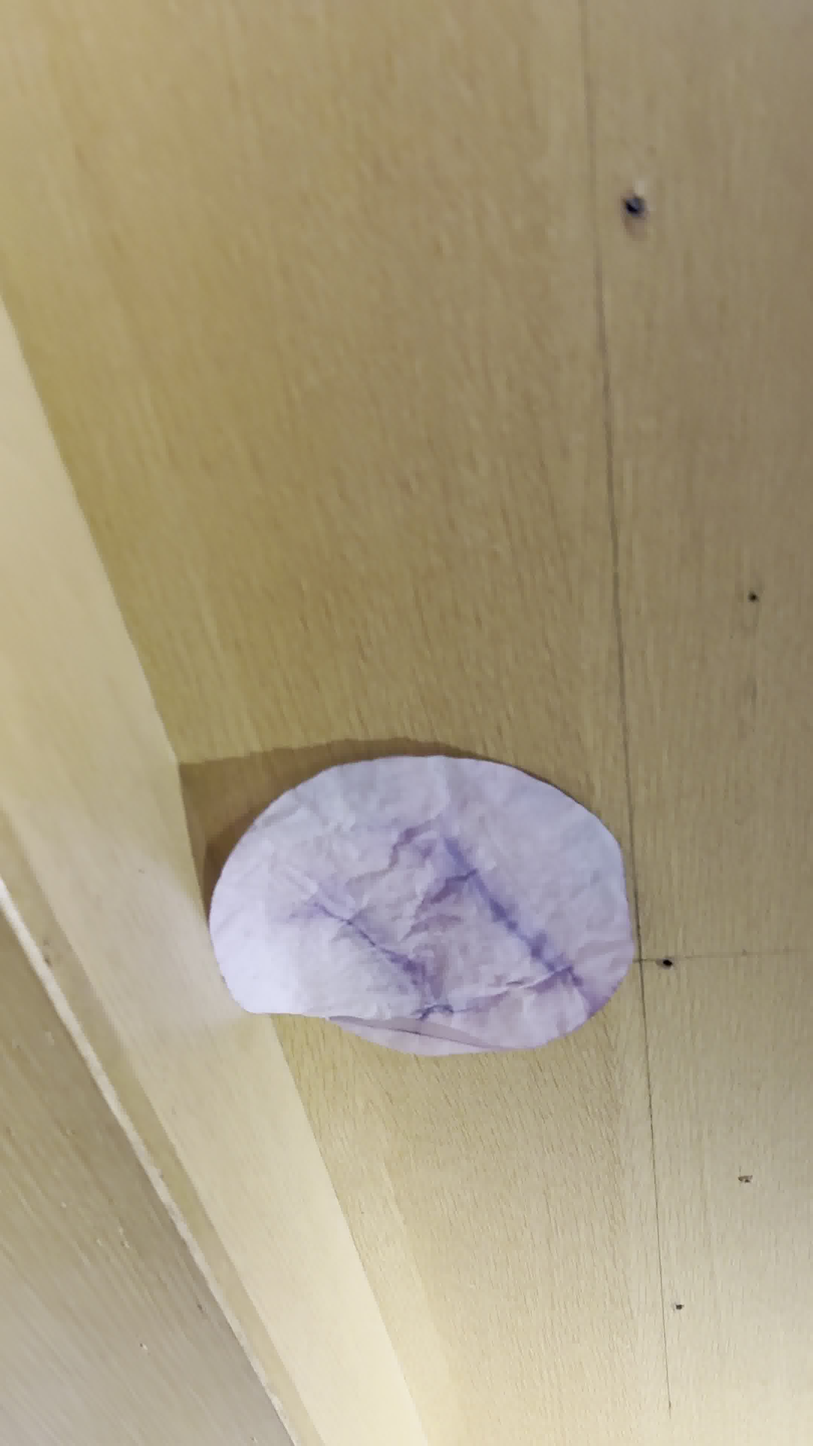Target: (209, 754, 632, 1059)
